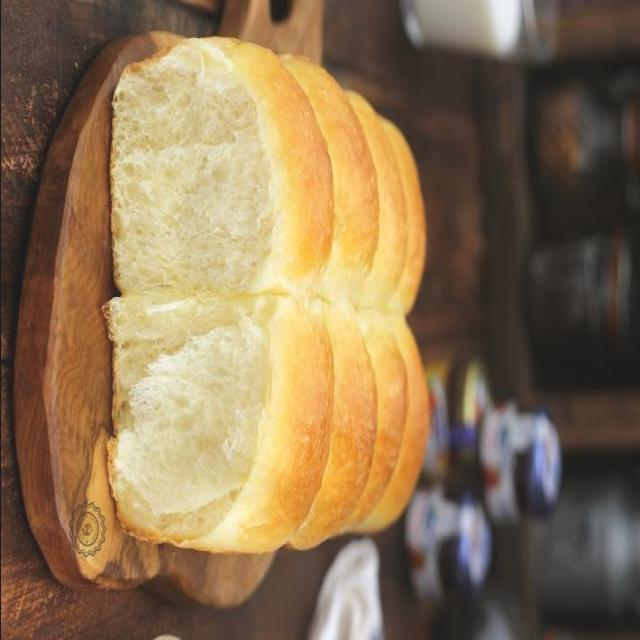roti tawar: (102, 36, 331, 555)
